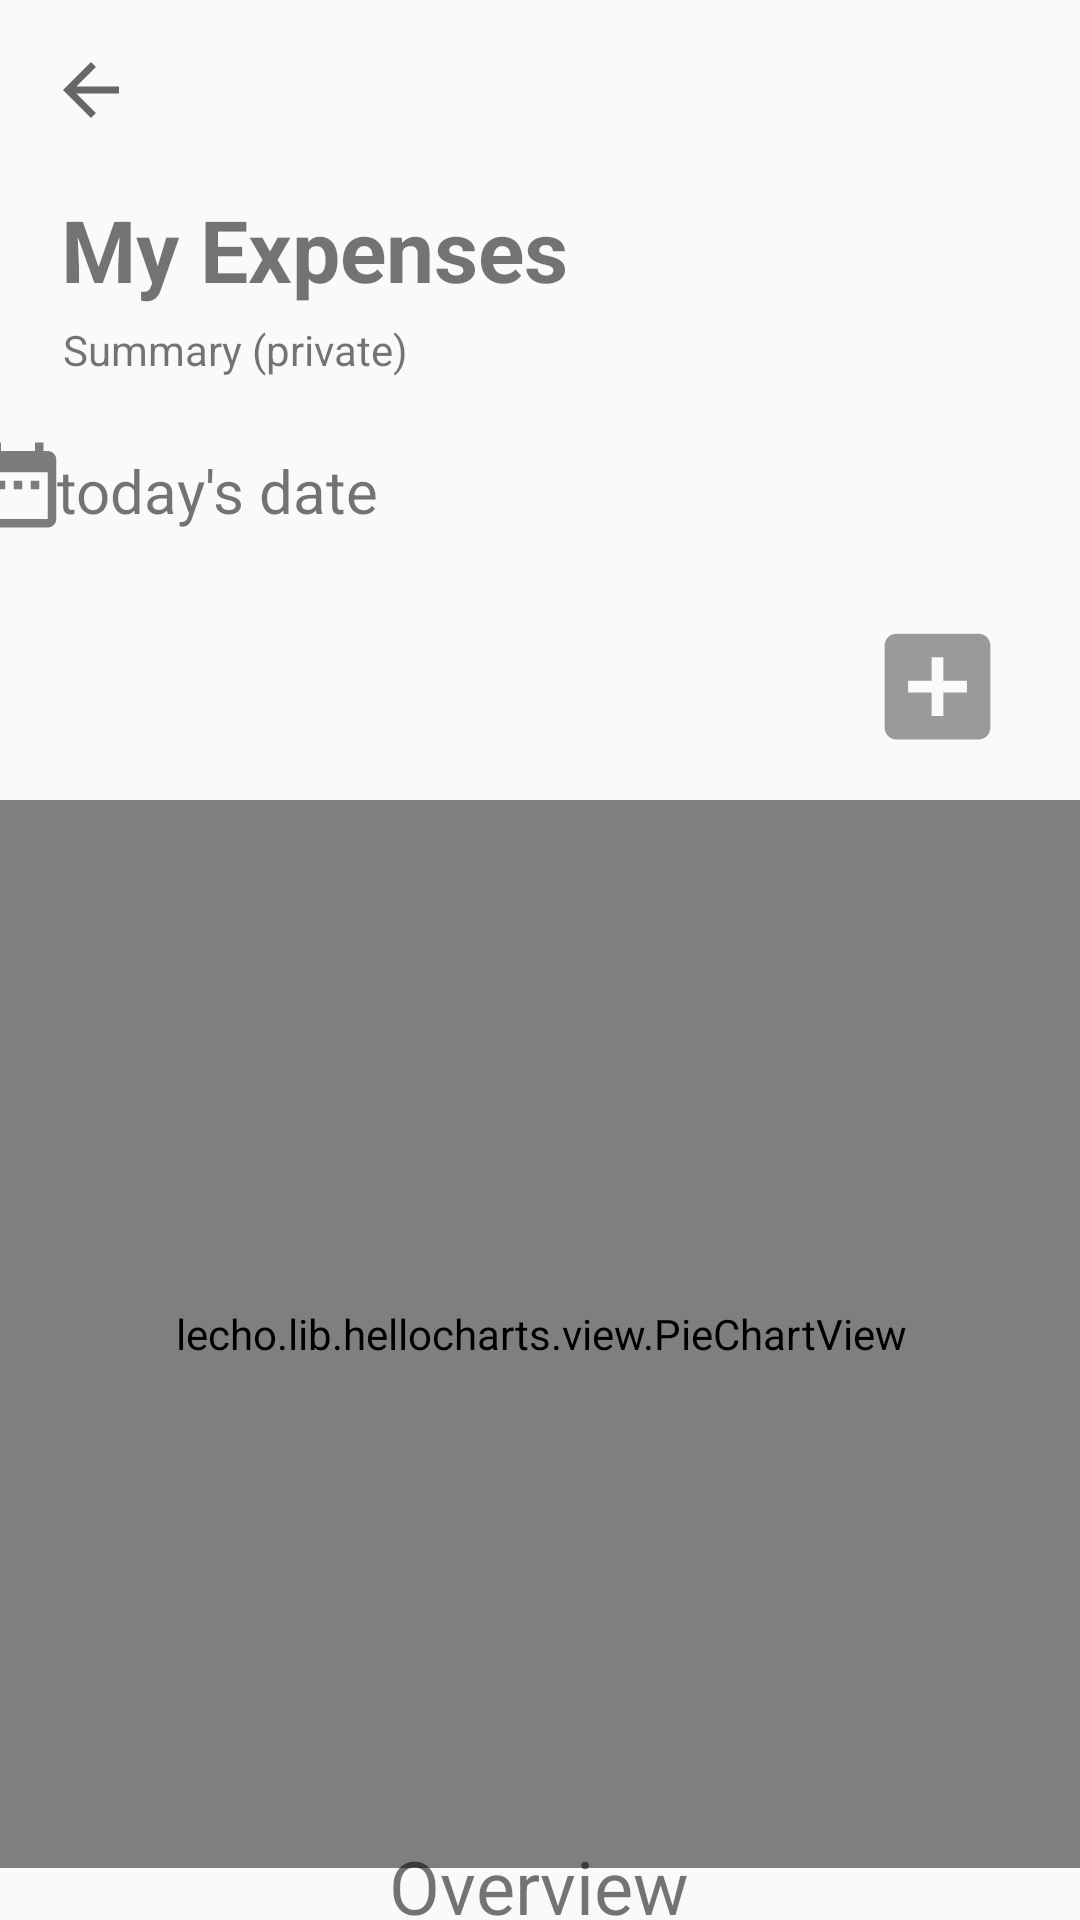

Point at icon controls on the screen. Image size 1080px×1920px, points as (x=x, y=y).
add box: (x=937, y=687)
arrow back: (x=91, y=90)
